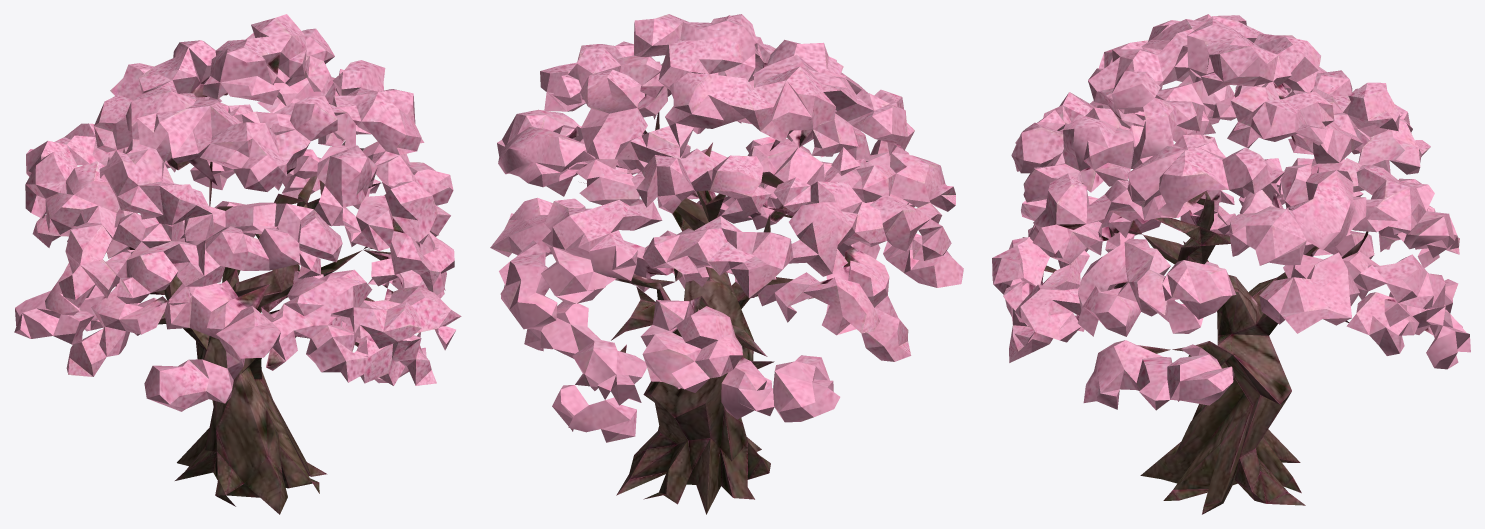
Rendered from sakura.glb.
The picture shows the model from 3 angles, left to right: view 1: azimuth 30°, elevation 25°; view 2: azimuth 150°, elevation 25°; view 3: azimuth 270°, elevation 25°; orthographic projection. The views are drawn at different scales.
Size of the model in its own units: 1.76 by 1.89 by 1.81.
Materials: 1 (1 with a texture image).
